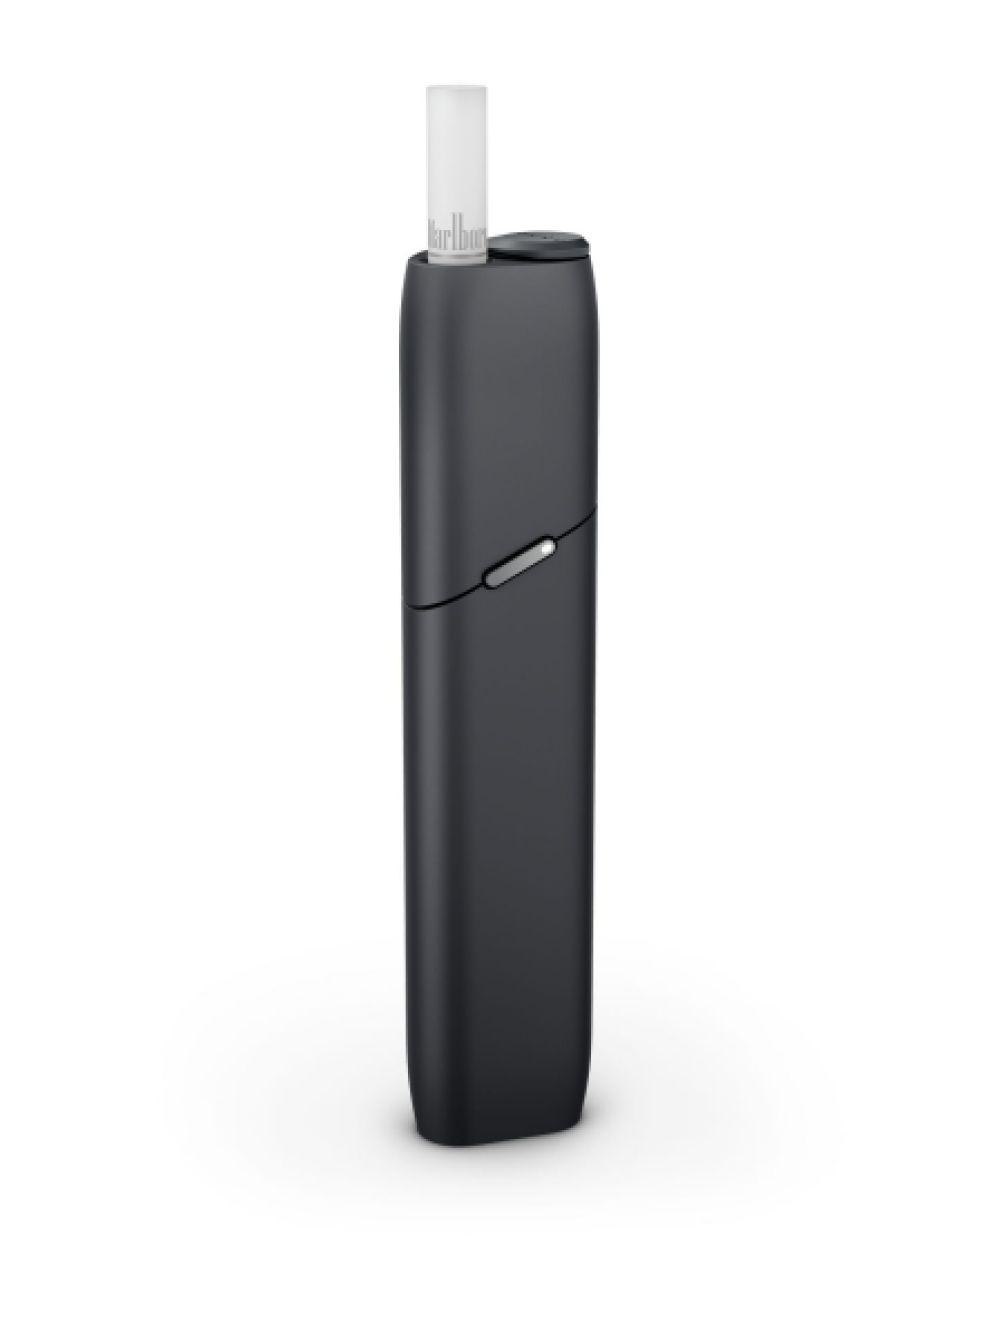iqos: (400, 86, 598, 1146)
